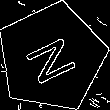N_NE: (20, 28, 84, 87)
